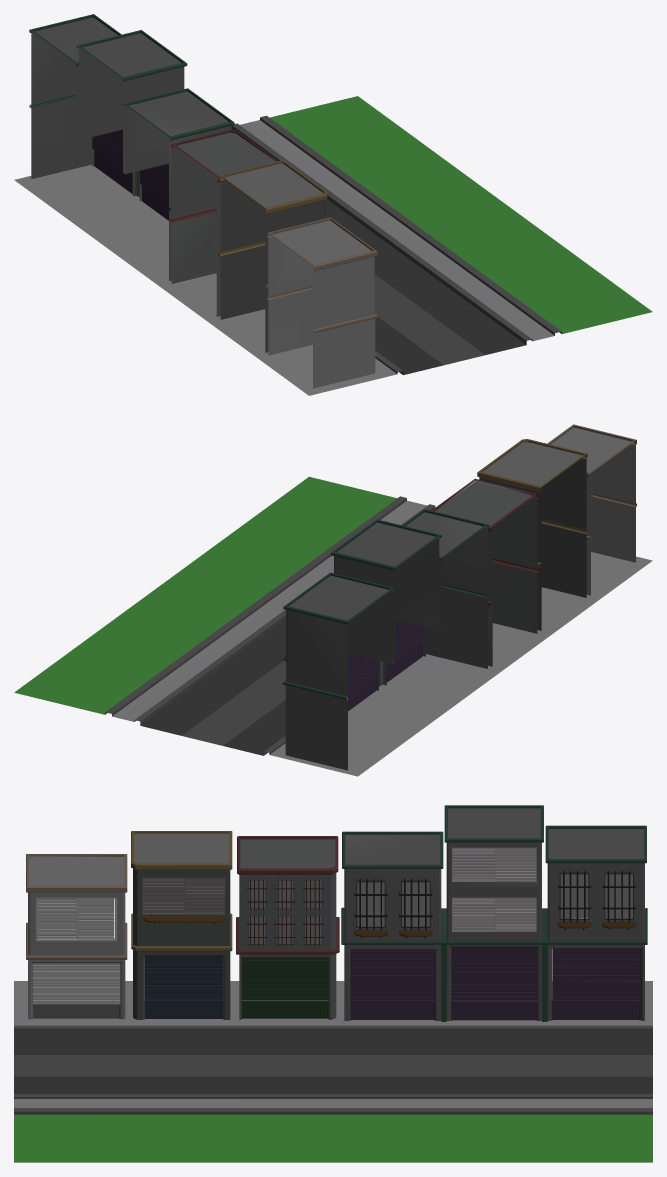
The model's file is Tile_Rua_6.fbx.
The picture shows the model from 3 angles, top to bottom: view 1: azimuth 30°, elevation 25°; view 2: azimuth 150°, elevation 25°; view 3: azimuth 270°, elevation 25°; orthographic projection. The views are drawn at different scales.
Visible parts, largest first — view 1: Tile_Rua_6; view 2: Tile_Rua_6; view 3: Tile_Rua_6.
Part boxes in pixels (box(x1,y1,x2,y2)): Tile_Rua_6: box(14, 14, 652, 395); Tile_Rua_6: box(14, 424, 652, 776); Tile_Rua_6: box(14, 805, 652, 1162).
Size of the model in its own units: 1209 by 574 by 1797.
